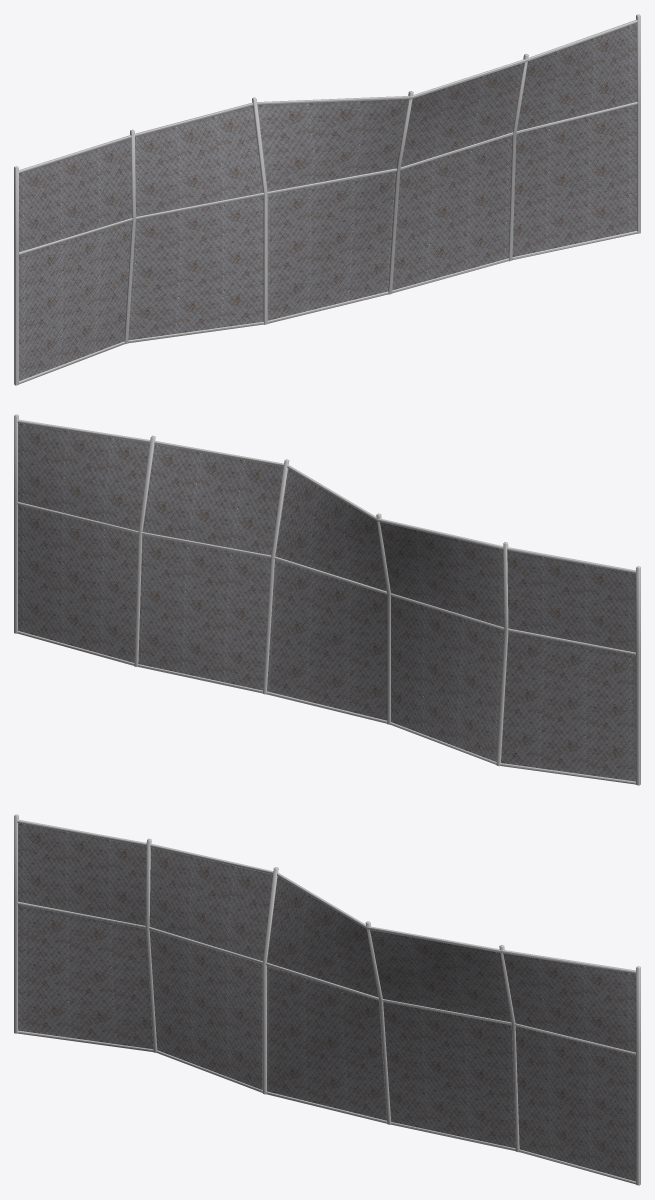
File: ChainFence01_1.FBX
3 renders of one model, top to bottom at view 1: azimuth 30°, elevation 25°; view 2: azimuth 150°, elevation 25°; view 3: azimuth 330°, elevation 25°, orthographic.
Visible parts, largest first — view 1: ChainFence01_1; view 2: ChainFence01_1; view 3: ChainFence01_1.
Part boxes in pixels (left/top/right/bottom): ChainFence01_1: left=14, top=14, right=640, bottom=385; ChainFence01_1: left=14, top=414, right=640, bottom=785; ChainFence01_1: left=14, top=814, right=640, bottom=1185.
Size of the model in its own units: 1221 by 406 by 131.
